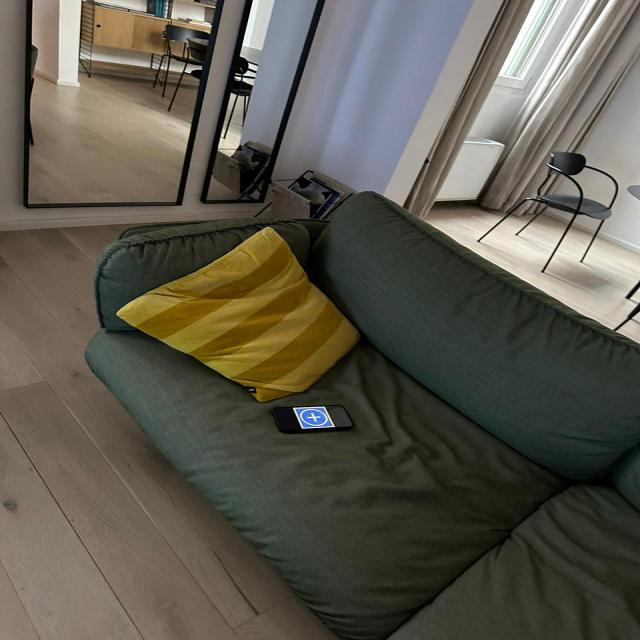Marker: (293, 406, 336, 429)
